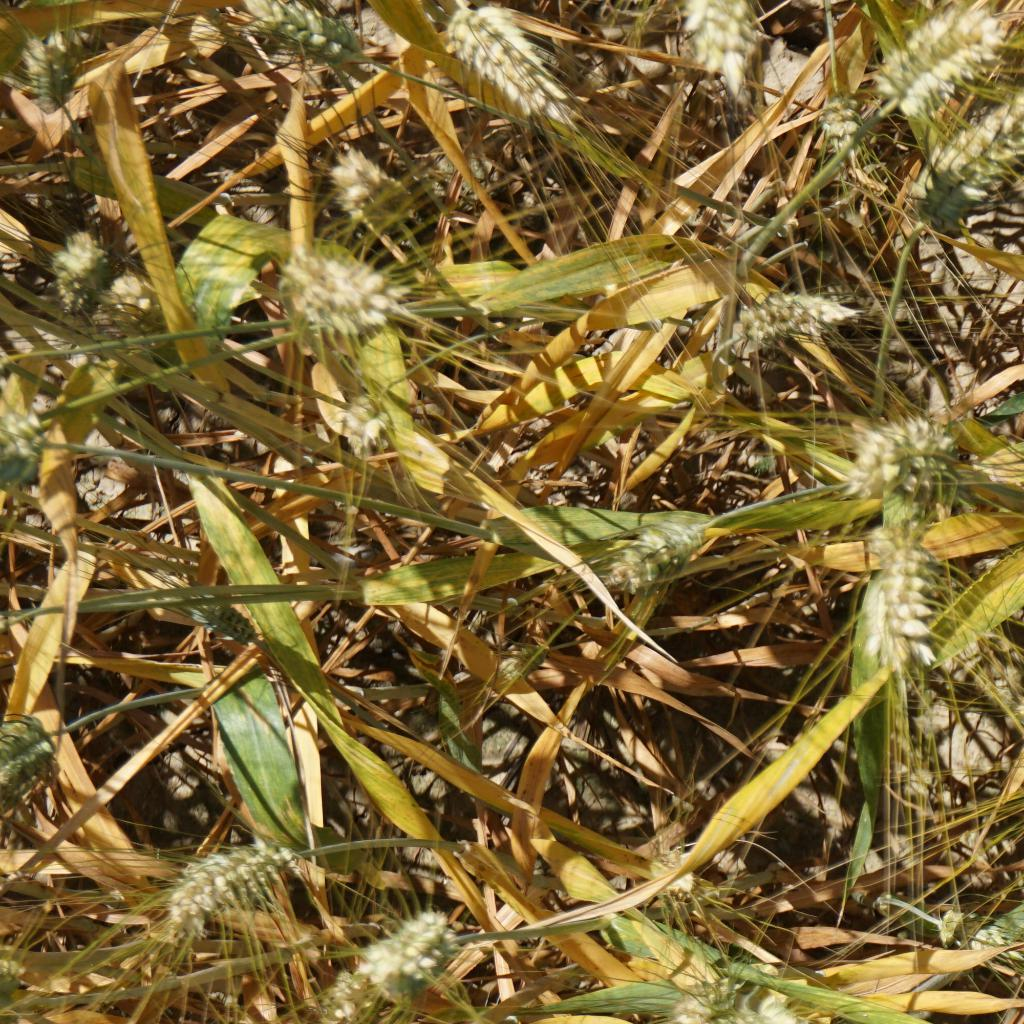0-0: (429, 6, 584, 118), (902, 96, 1024, 218), (854, 4, 1002, 92), (155, 837, 295, 929), (684, 0, 789, 114), (262, 246, 393, 332), (234, 4, 377, 82), (364, 902, 474, 1002), (313, 143, 429, 232), (860, 533, 935, 667), (726, 275, 850, 344), (858, 409, 956, 492), (13, 23, 98, 118), (681, 968, 823, 1024), (45, 222, 116, 330), (931, 904, 1024, 983), (175, 576, 268, 655), (600, 507, 691, 586), (314, 959, 396, 1024), (333, 384, 397, 466), (816, 85, 869, 177), (0, 710, 51, 805), (645, 841, 707, 904), (0, 406, 53, 472), (492, 638, 558, 688), (1000, 677, 1024, 743)
